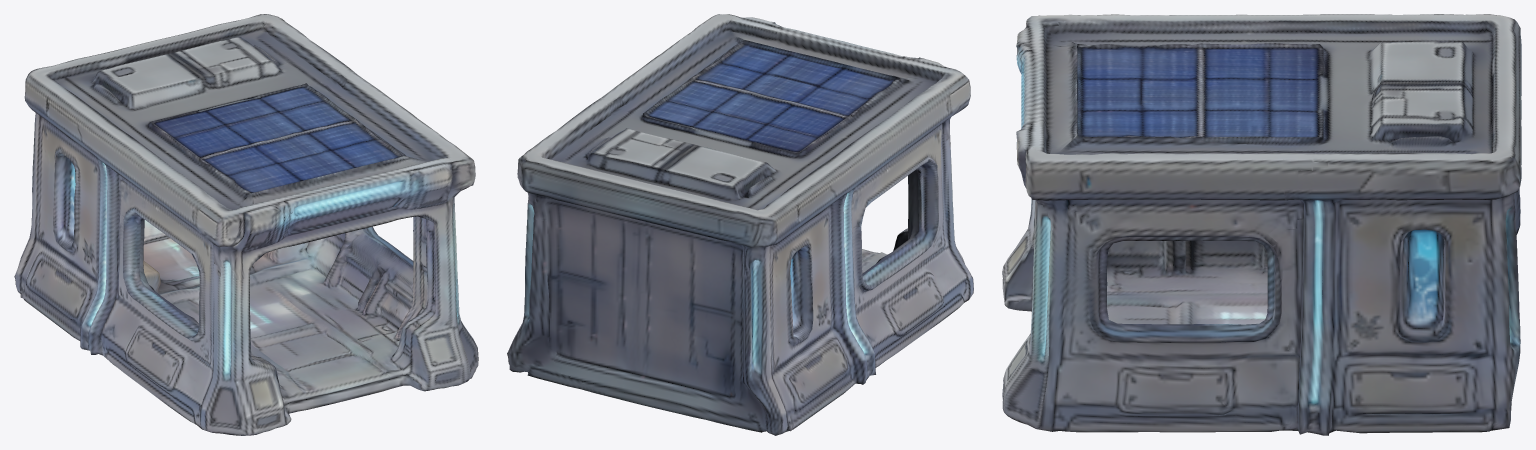
File: house_windows.fbx
The picture shows the model from 3 angles, left to right: view 1: azimuth 30°, elevation 25°; view 2: azimuth 150°, elevation 25°; view 3: azimuth 270°, elevation 25°; orthographic projection. The views are drawn at different scales.
Visible parts, largest first — view 1: model_LOD0; view 2: model_LOD0; view 3: model_LOD0.
Part boxes in pixels (bbox=[...]): model_LOD0: bbox=[14, 14, 478, 435]; model_LOD0: bbox=[507, 14, 973, 435]; model_LOD0: bbox=[1002, 14, 1521, 435].
Size of what is drawn, in the model's own units: 149 by 108 by 190.
